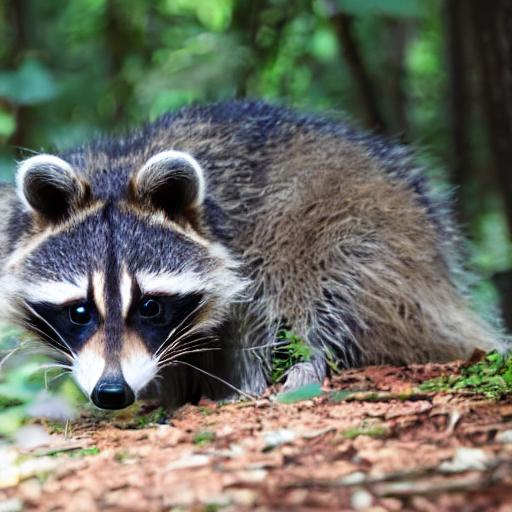raccoon: (0, 95, 512, 408)
